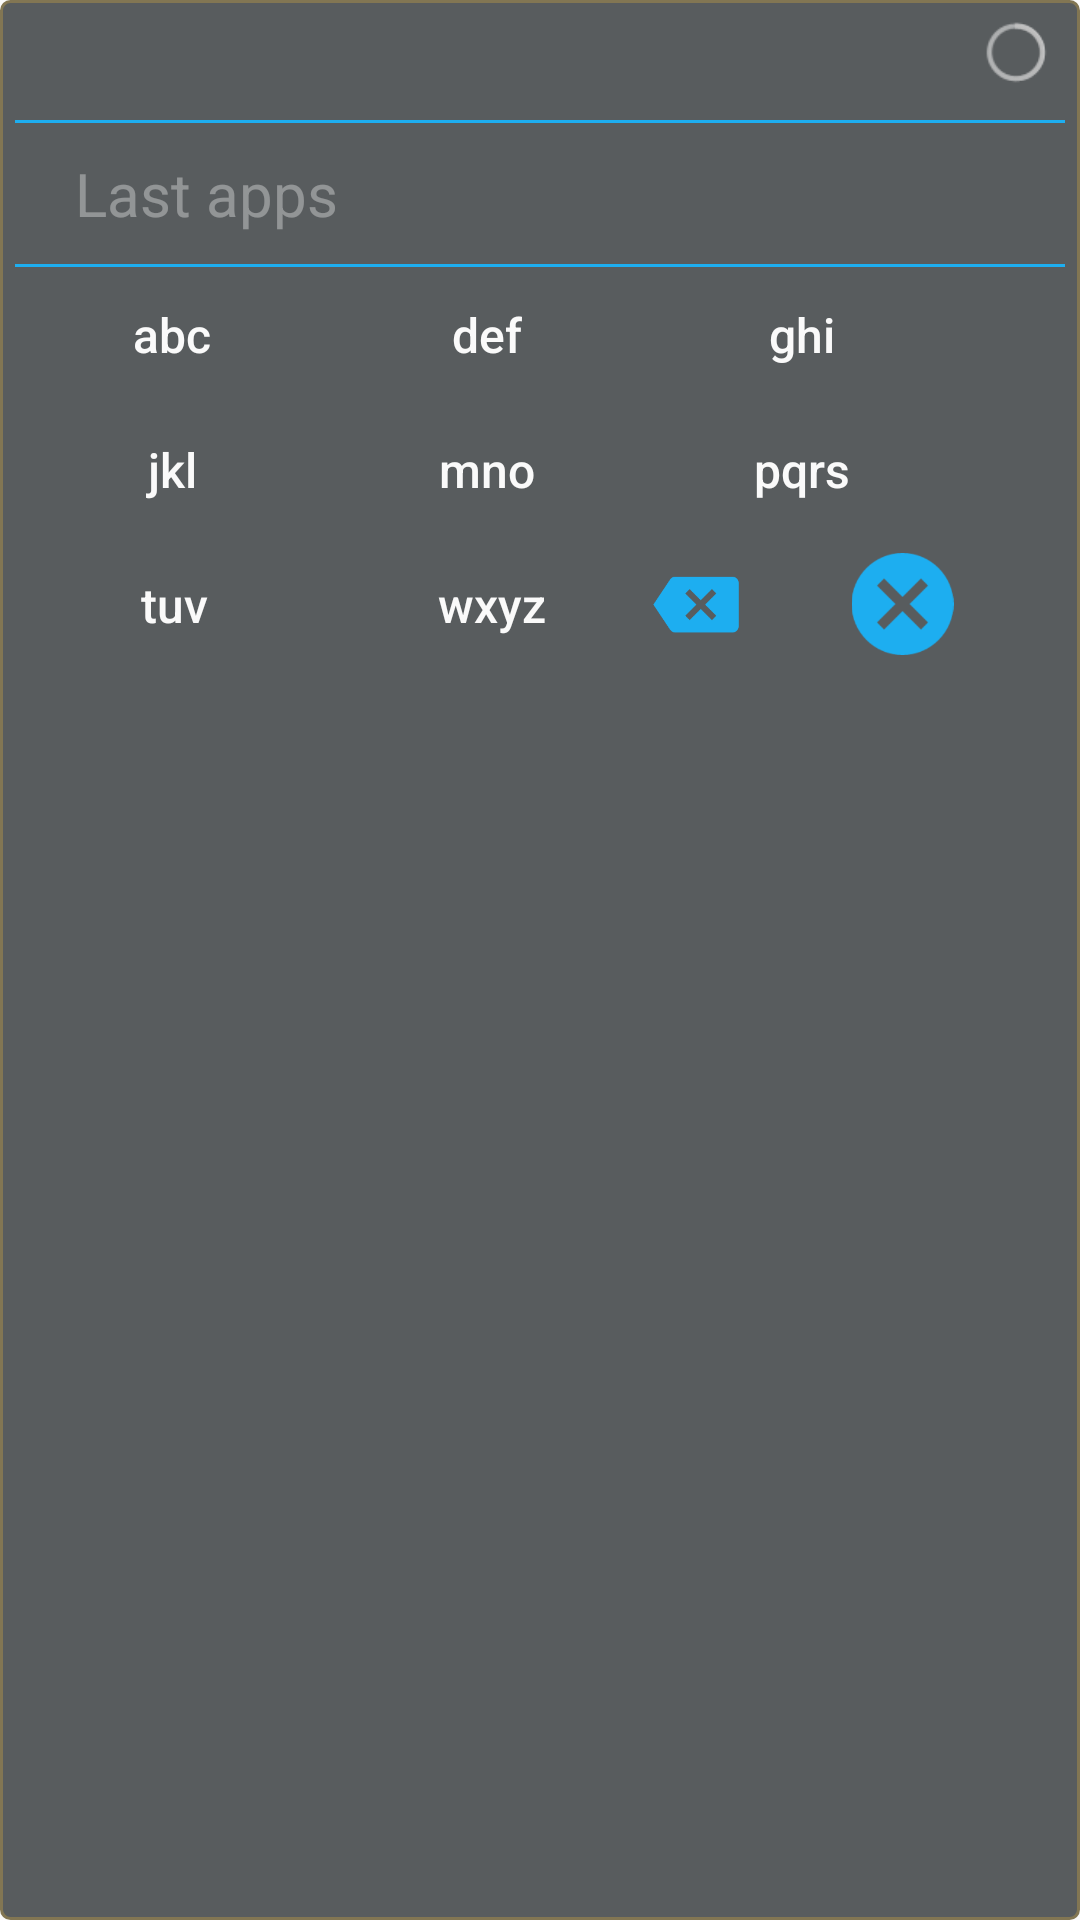

Icon click points for this 1080*1920 phone screenshot, format (x=x, y=y):
backspace arrow: (x=696, y=605)
cancel: (x=903, y=604)
